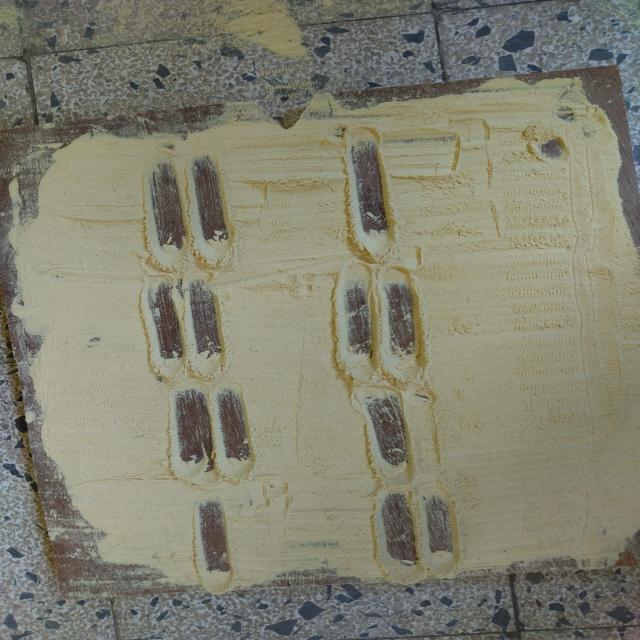double: (324, 263, 432, 388), (135, 150, 238, 274), (132, 272, 232, 384), (368, 478, 469, 582), (162, 381, 257, 488)
single: (335, 120, 403, 263), (348, 380, 421, 484), (186, 488, 241, 596)
